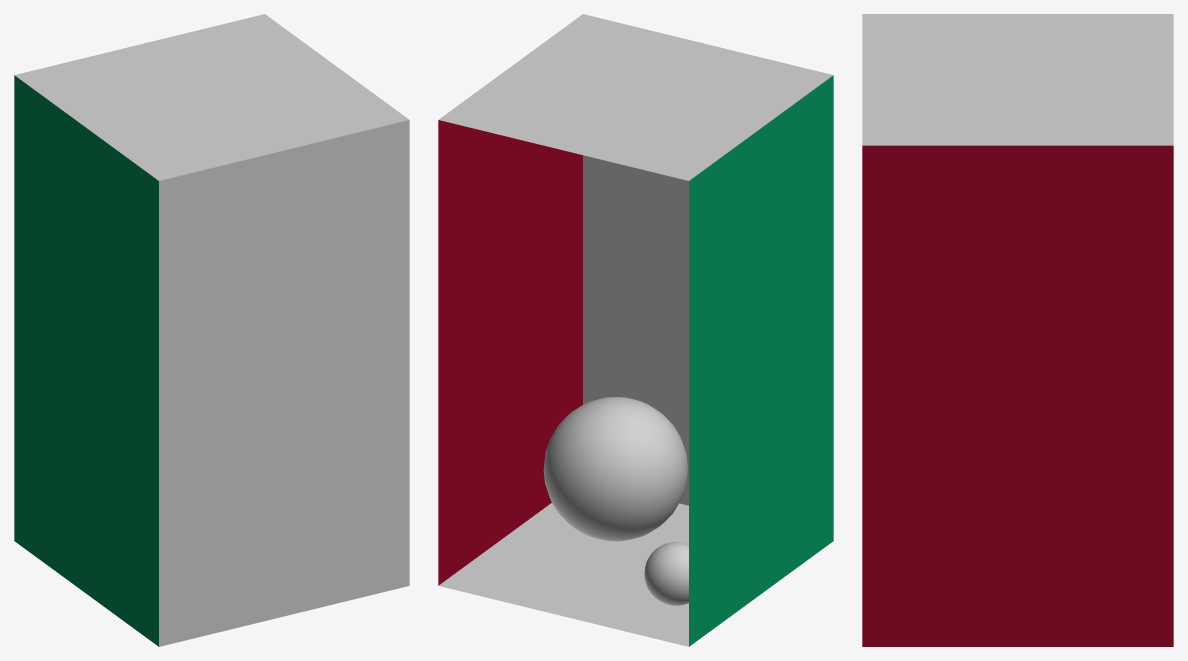
Rendered from cornell-box.obj.
The picture shows the model from 3 angles, left to right: view 1: azimuth 30°, elevation 25°; view 2: azimuth 150°, elevation 25°; view 3: azimuth 270°, elevation 25°; orthographic projection. The views are drawn at different scales.
Parts seen in each view (by area): view 1: Cube, Cube.002_Cube.004; view 2: Cube, Cube.002_Cube.004, Cube.001_Cube.003, Sphere, Sphere.001; view 3: Cube.001_Cube.003, Cube.
Part boxes in pixels (<box>): Cube: <box>14,14,409,646</box>; Cube.002_Cube.004: <box>14,75,158,646</box>; Cube: <box>438,14,833,646</box>; Cube.002_Cube.004: <box>689,75,833,646</box>; Cube.001_Cube.003: <box>438,120,582,585</box>; Sphere: <box>543,397,687,541</box>; Sphere.001: <box>644,542,688,605</box>; Cube.001_Cube.003: <box>862,145,1173,646</box>; Cube: <box>862,14,1173,145</box>.
Size of the model in its own units: 4 by 7.11 by 4.
